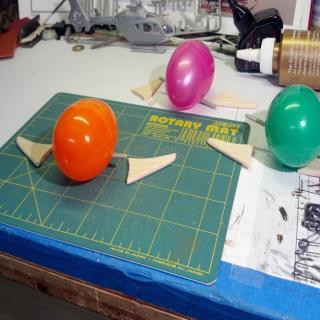tomato: (48, 94, 119, 184)
